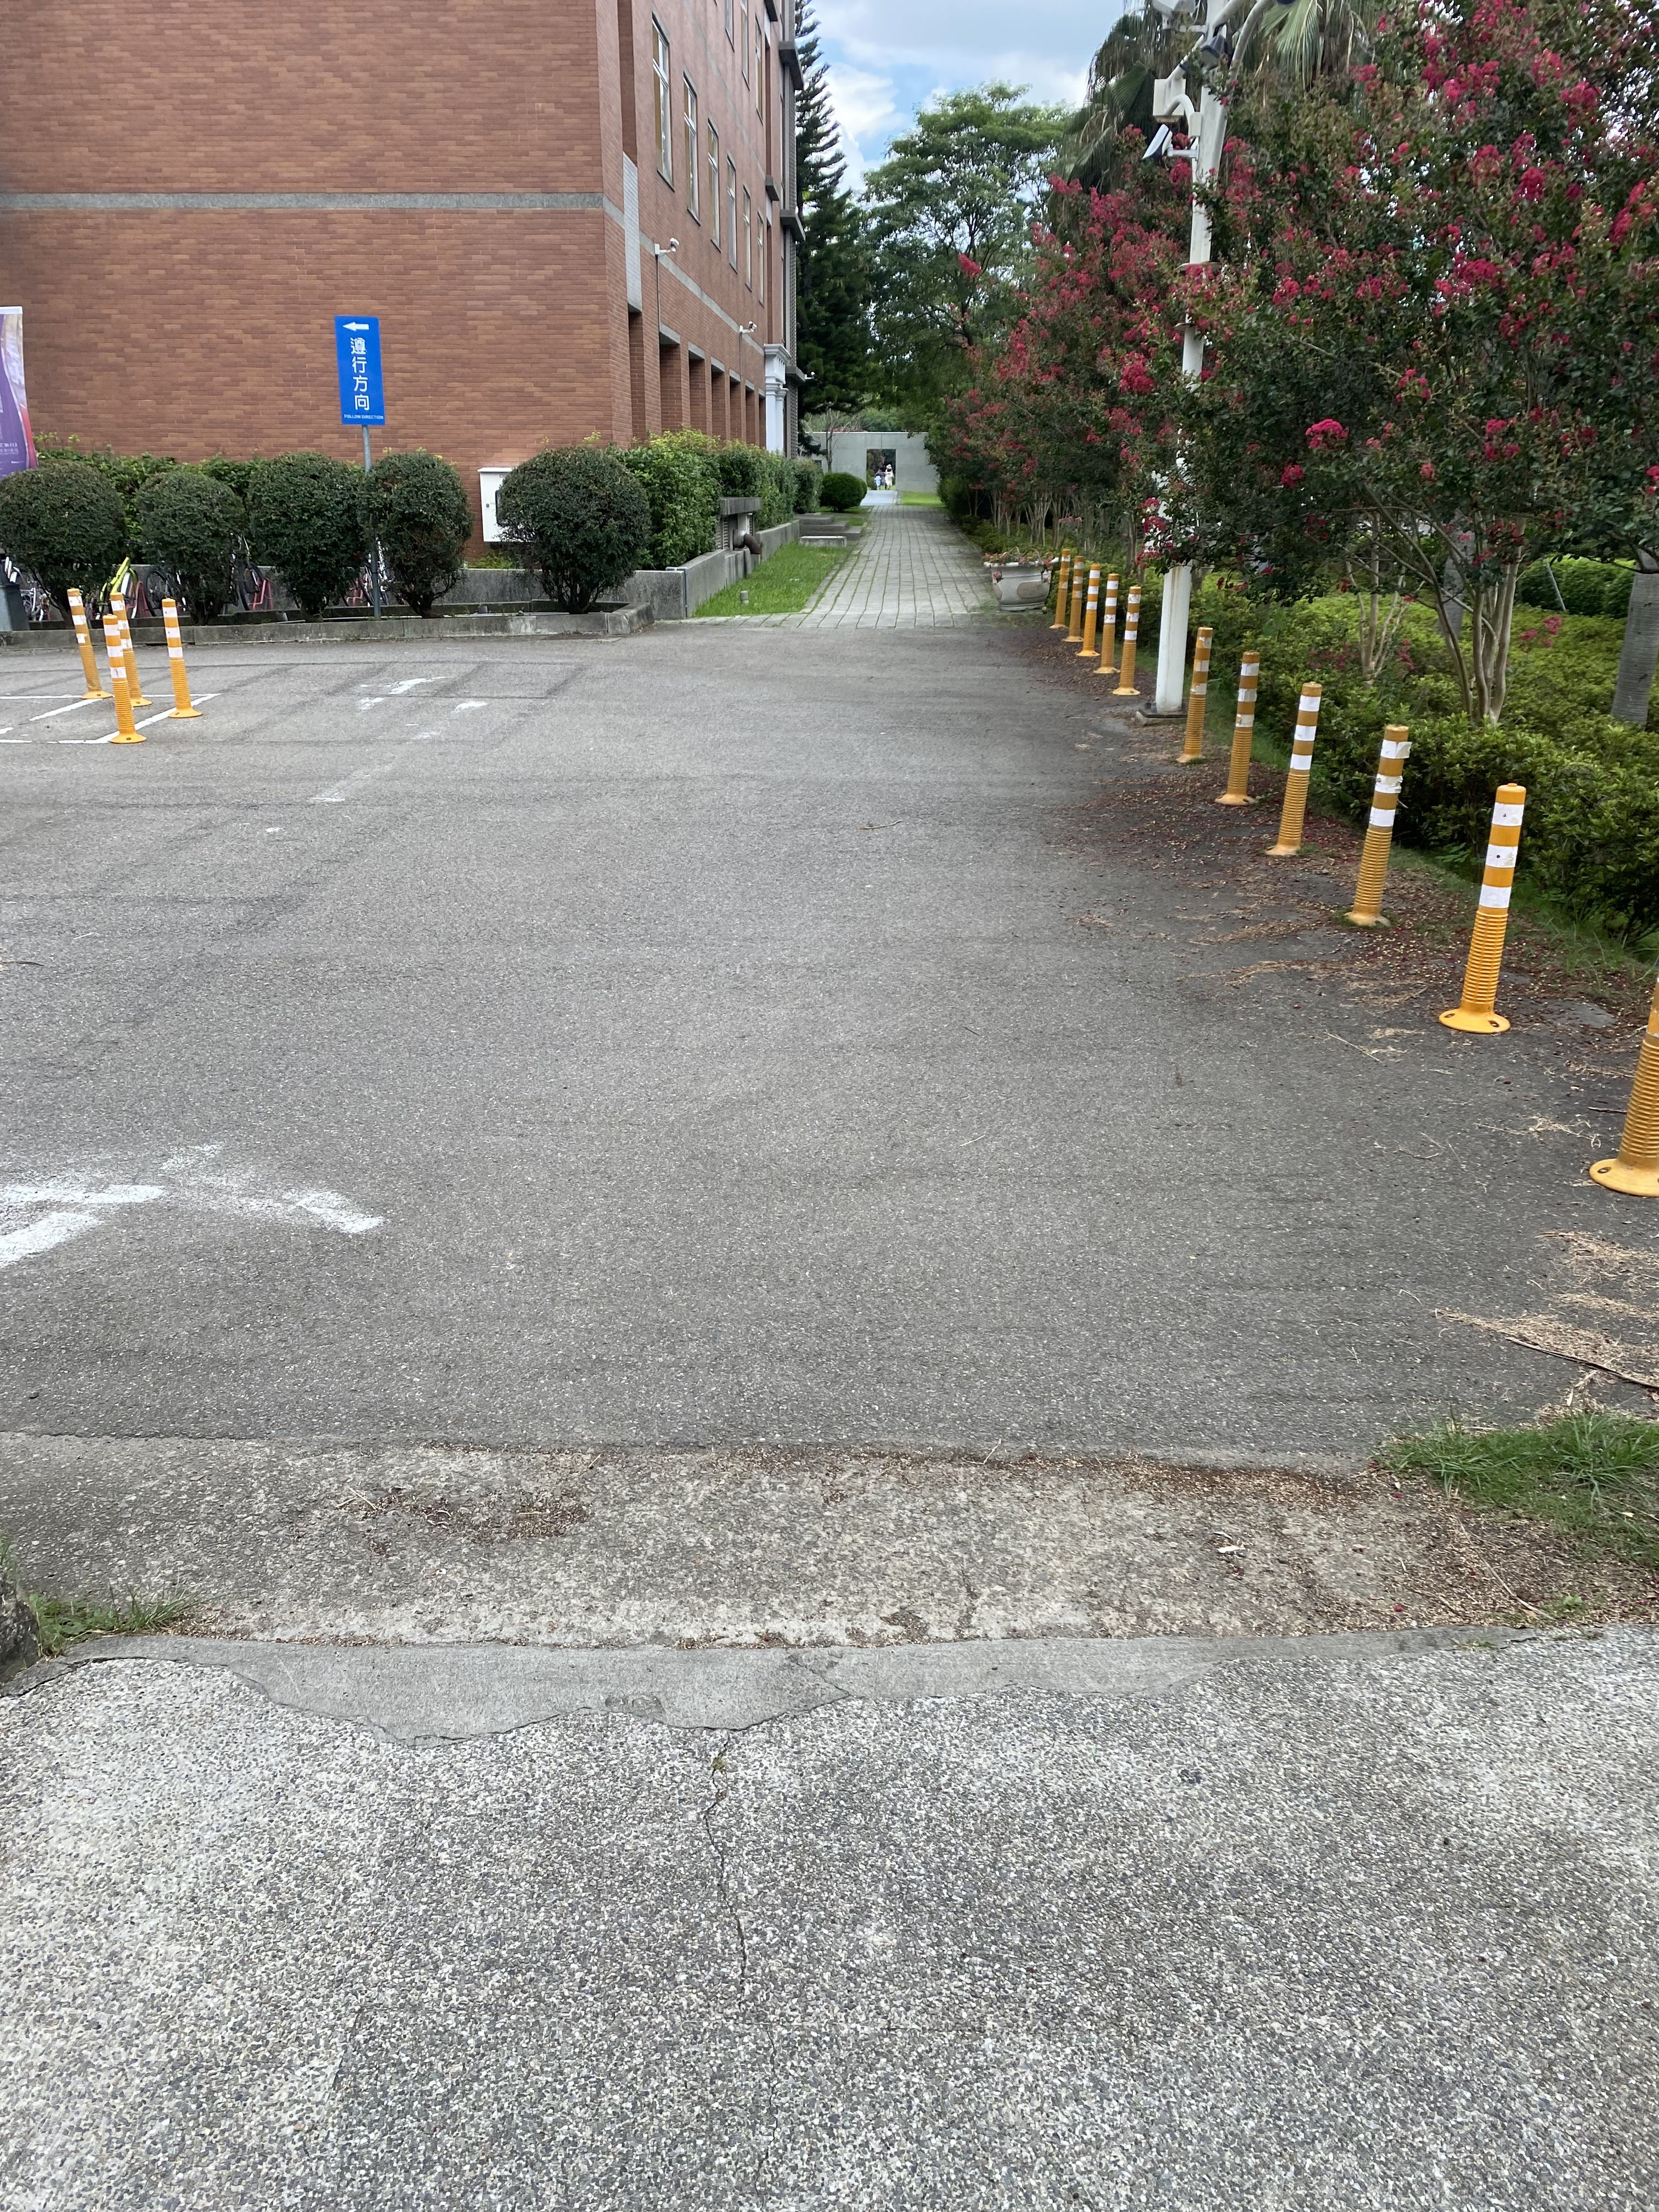0: (3, 1440, 1659, 2212)
sidewalk: (704, 463, 1328, 2212)
